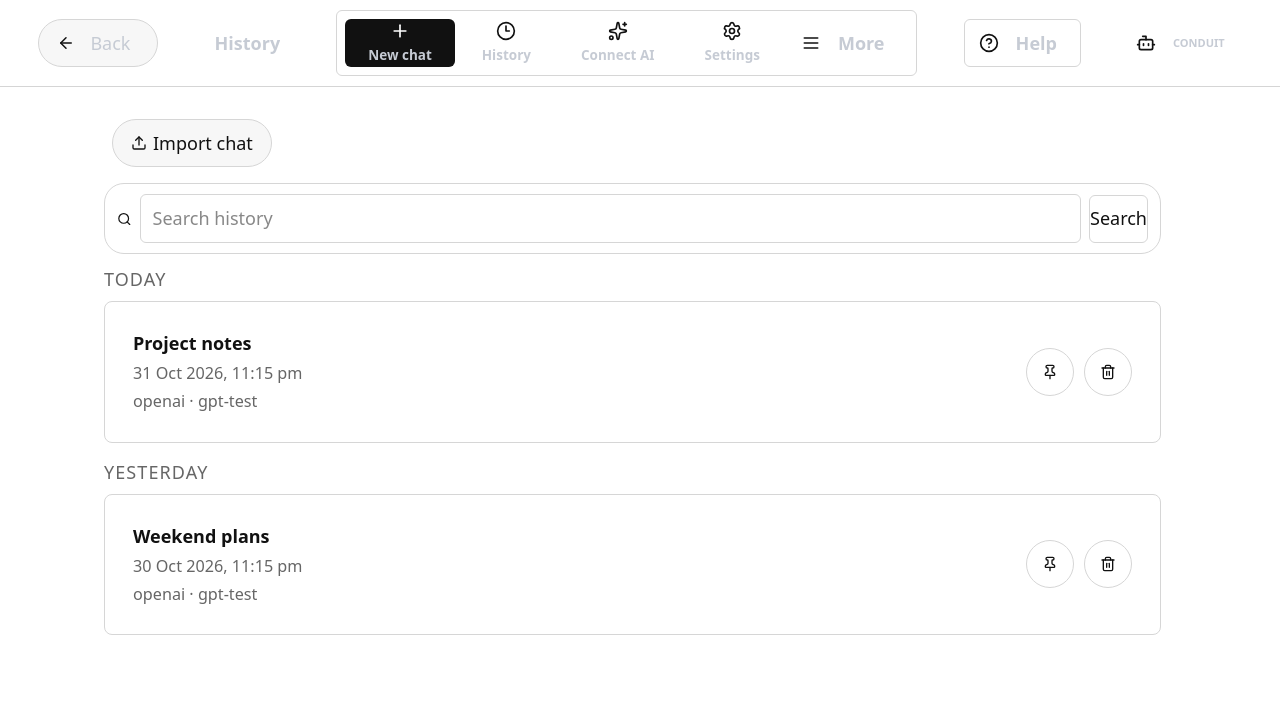
history page › searches titles and message content while grouping results by day
Expected: the heading "Today" is shown, left=104, top=267, right=166, bottom=291
Expected: the heading "Yesterday" is shown, left=104, top=460, right=208, bottom=484
Type "museum" into the field labelled "Search history" at [610, 218], box left=140, top=194, right=1081, bottom=243
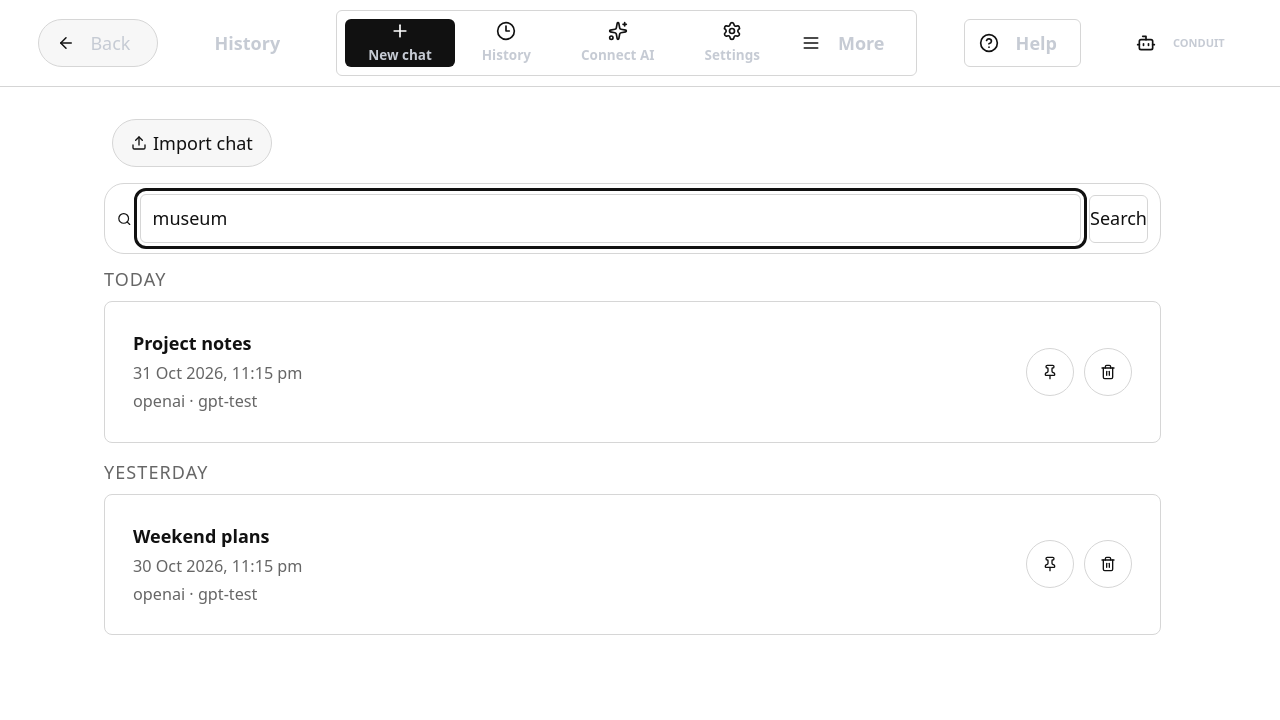
Click the button "Search" at [1118, 218], box left=1089, top=194, right=1148, bottom=242
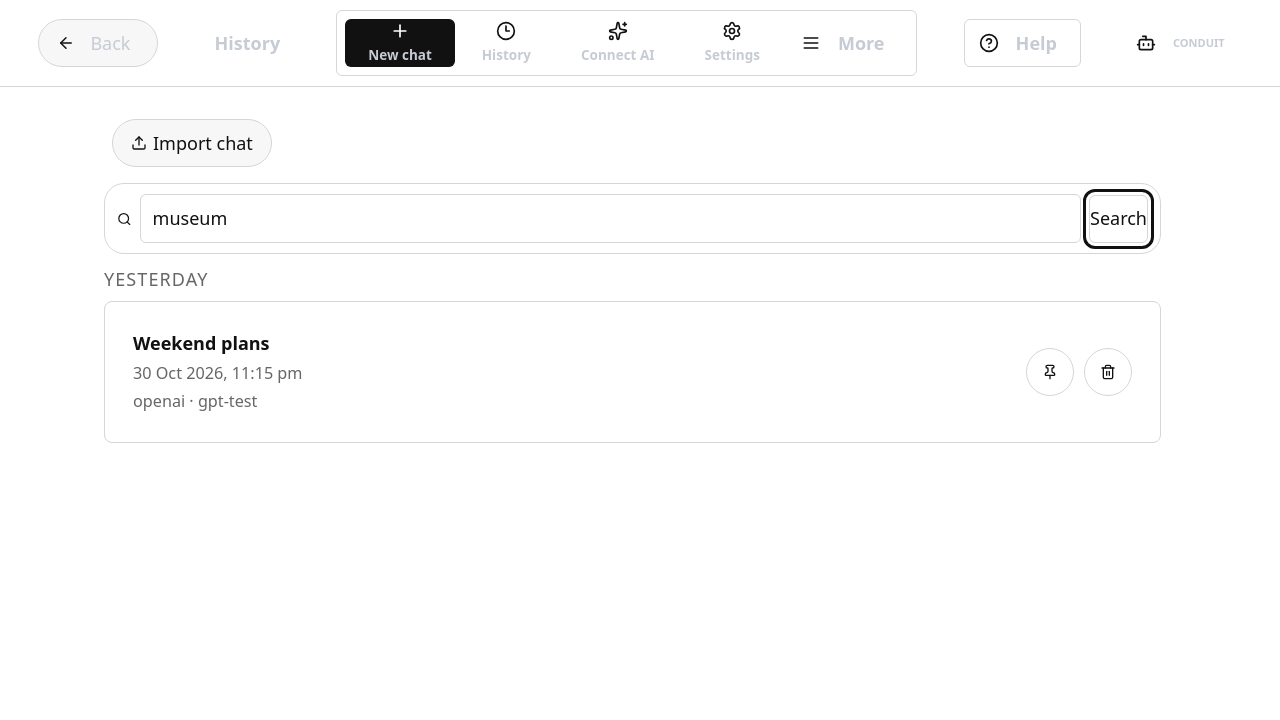
Expected: the text "Weekend plans" is shown, left=133, top=330, right=270, bottom=357
Expected: the button "Project notes" is gone
Expected: the heading "Today" is gone
